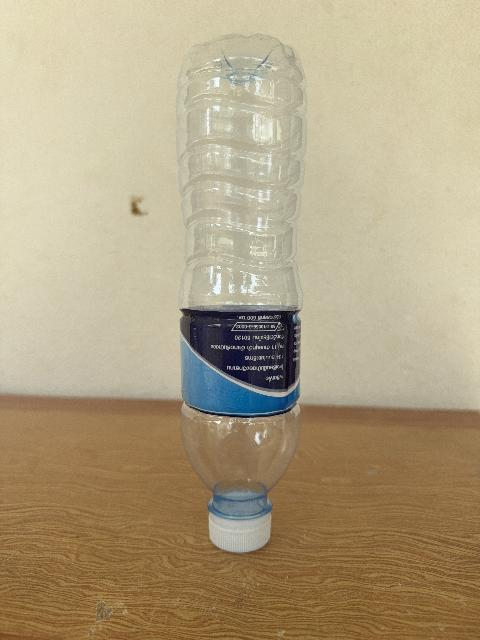bottle: (177, 34, 306, 551)
